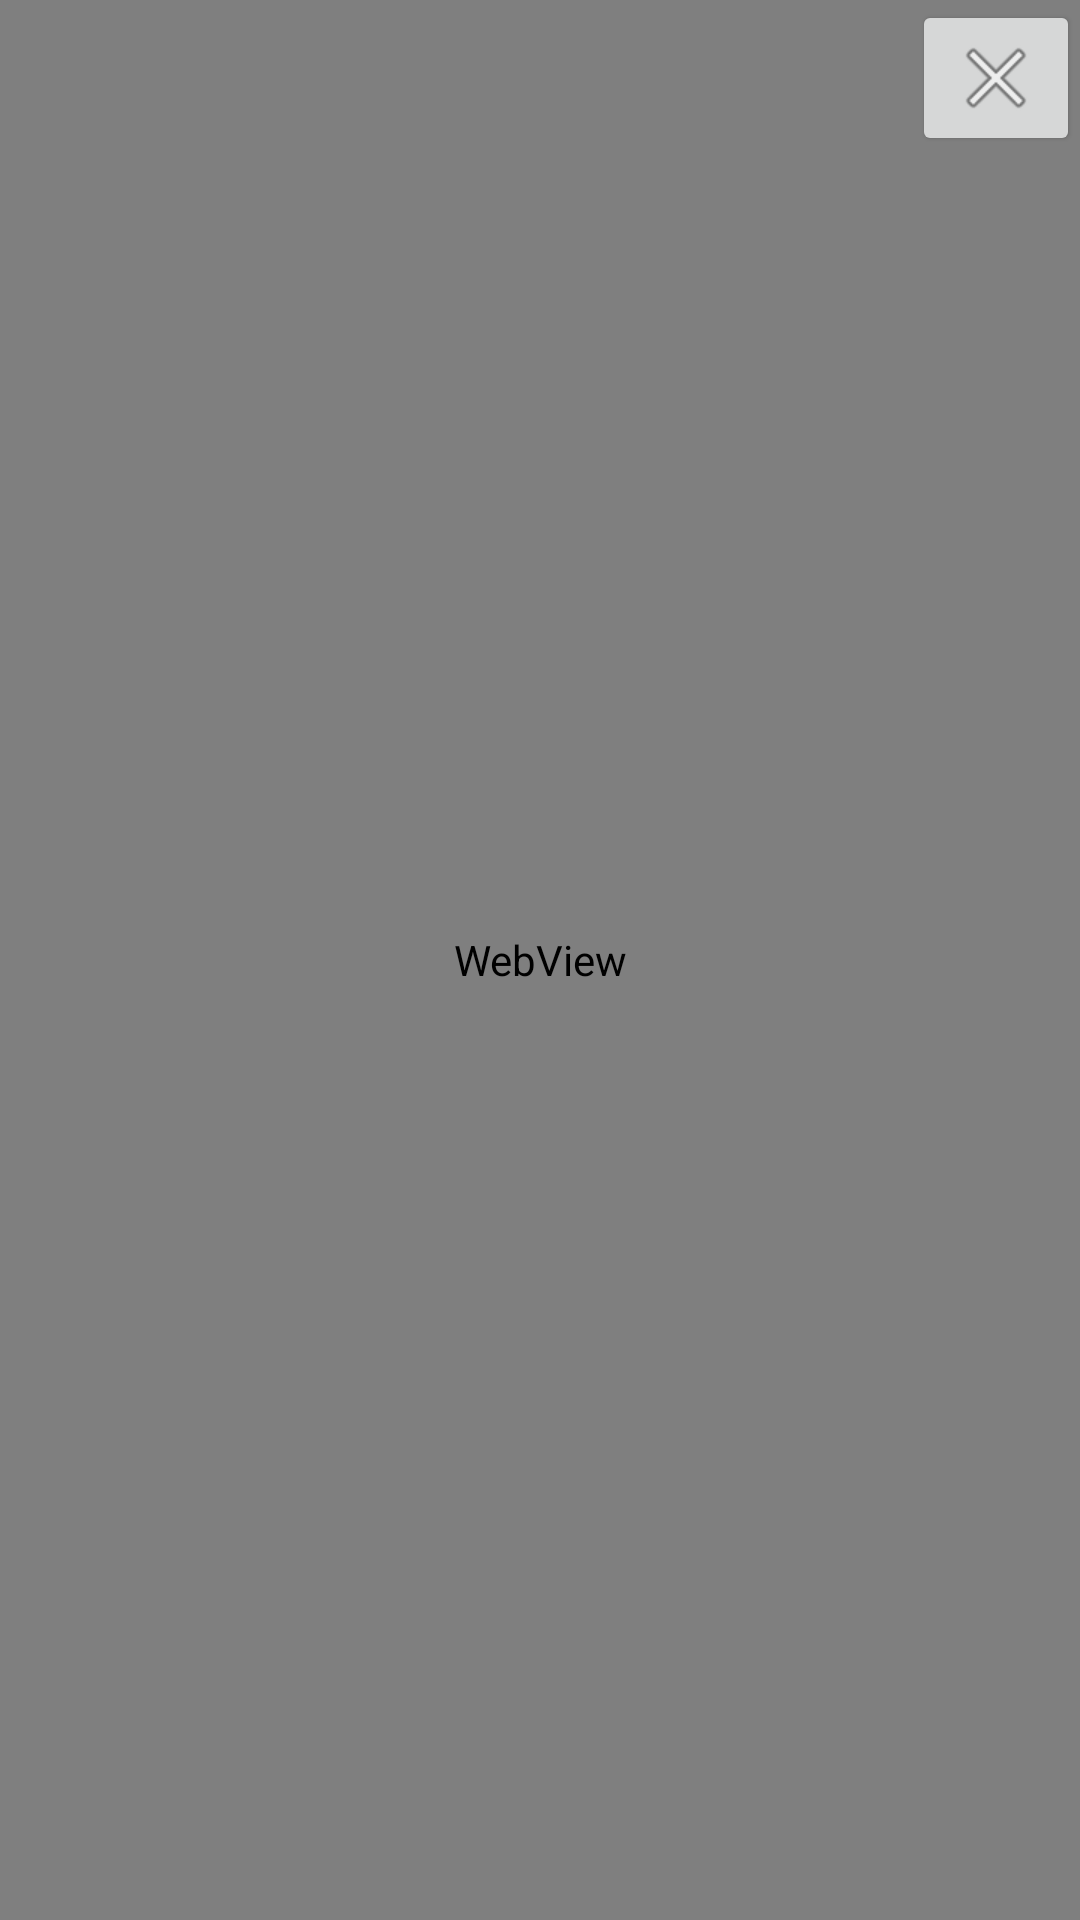

Named icons in this screenshot (1080w x 1920h) and their bounding boxes, Rect(x1, y1, x2, y2):
close clear cancel: Rect(924, 18, 1068, 138)
